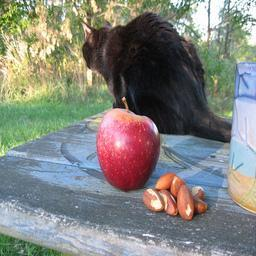apple: (93, 105, 161, 192)
